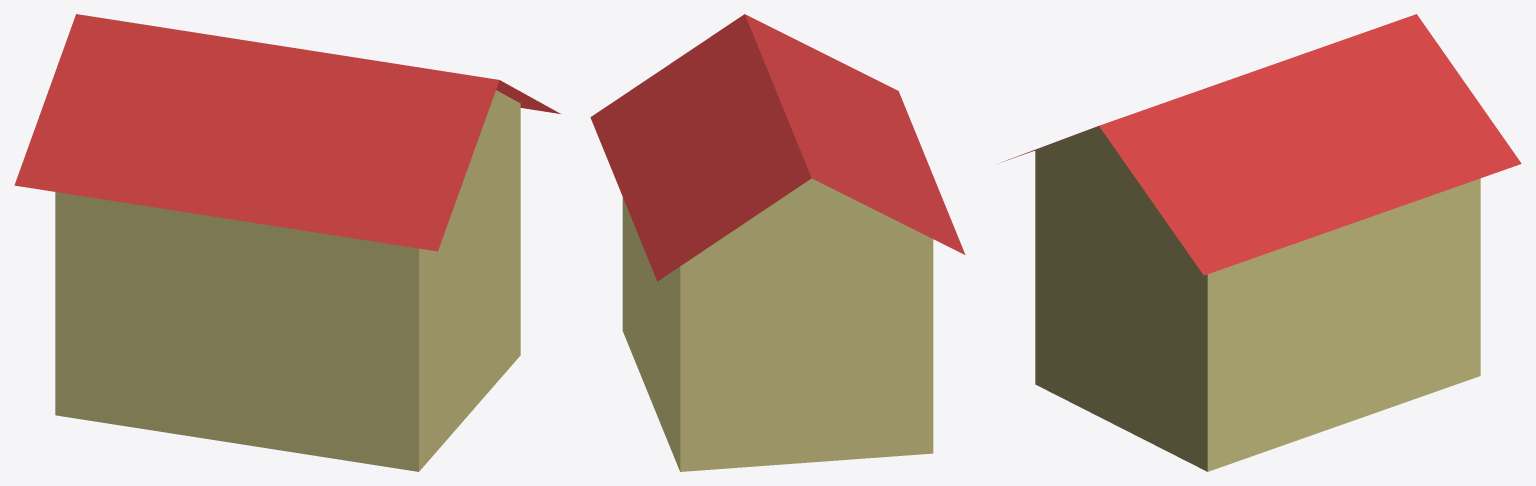
3 renders of one model, left to right at view 1: azimuth 30°, elevation 25°; view 2: azimuth 150°, elevation 25°; view 3: azimuth 270°, elevation 25°, orthographic. The views are drawn at different scales.
Size of the model in its own units: 17.63 by 18.01 by 11.68.
